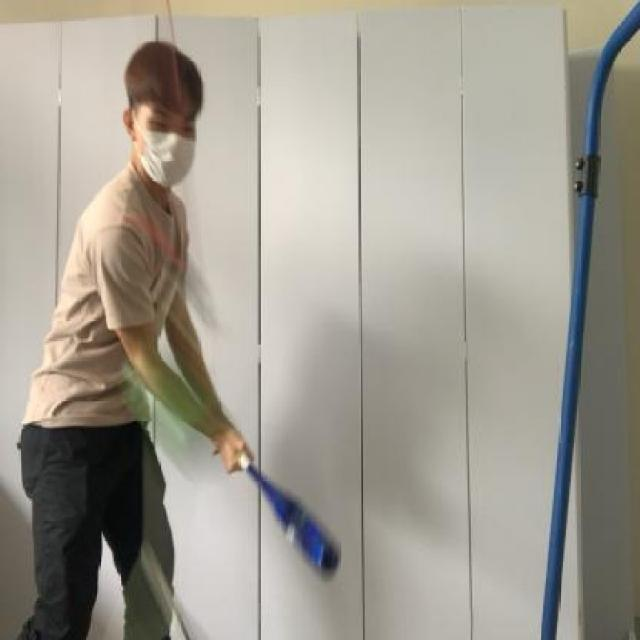baseball: (117, 342, 225, 478)
